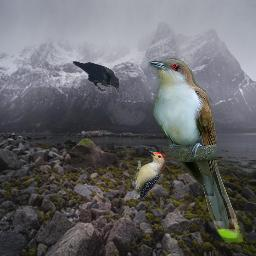Crow: (72, 61, 119, 93)
Cuckoo: (148, 58, 243, 243)
Woodpecker: (130, 148, 165, 199)
